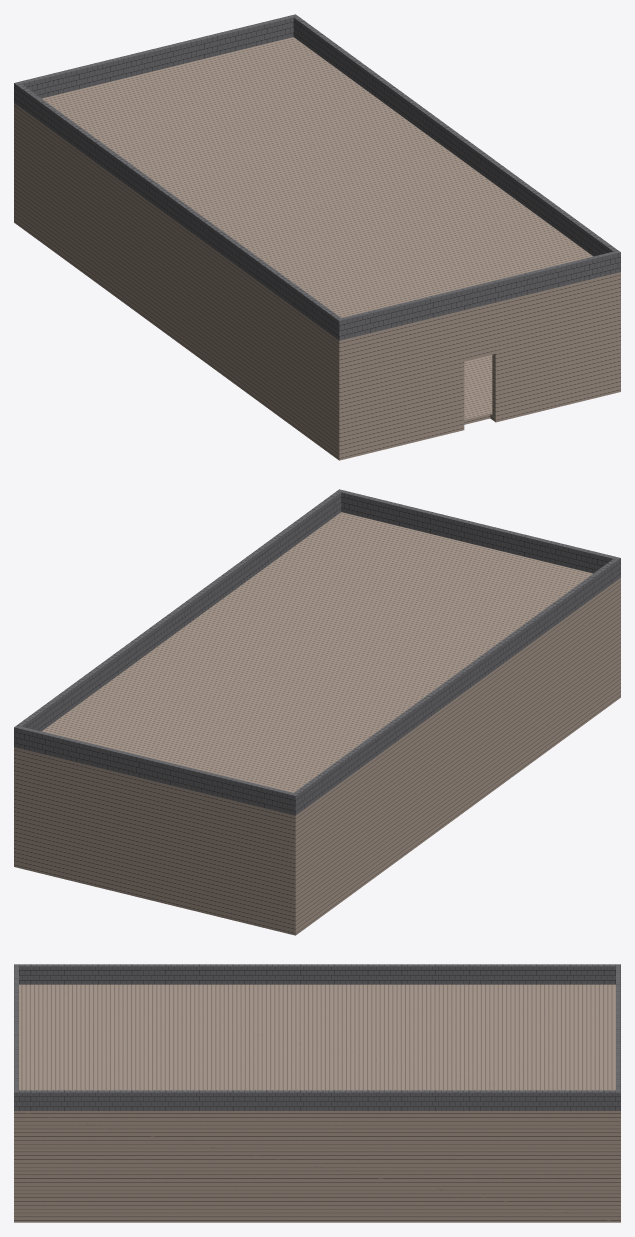
The model's file is clothing_store.glb.
3 renders of one model, top to bottom at view 1: azimuth 30°, elevation 25°; view 2: azimuth 150°, elevation 25°; view 3: azimuth 270°, elevation 25°, orthographic. The views are drawn at different scales.
Parts seen in each view (by area): view 1: clothing_store-col; view 2: clothing_store-col; view 3: clothing_store-col.
Part boxes in pixels (x1=…): clothing_store-col: x1=14, y1=14, x2=620, y2=460; clothing_store-col: x1=14, y1=489, x2=620, y2=935; clothing_store-col: x1=14, y1=964, x2=620, y2=1222.
Size of the model in its own units: 9 by 4.26 by 18.
Materials: 2 (2 with a texture image).
